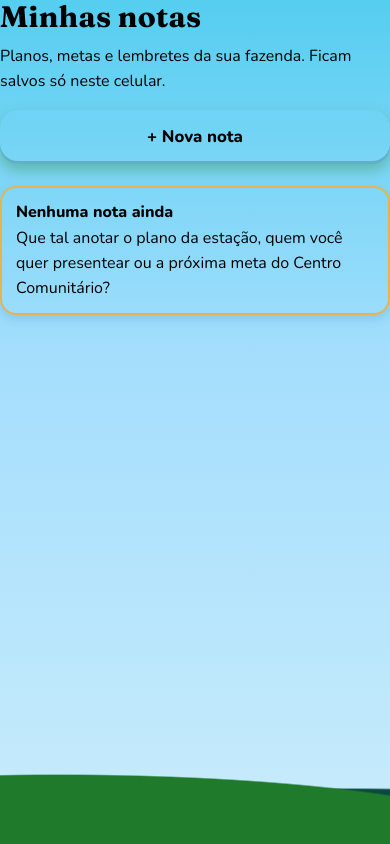
Scenario: Minhas notas (interface) › não salva nota deixada em branco
Step 1. Click the button "+ Nova nota" → [195, 137], box [0,110,389,164]
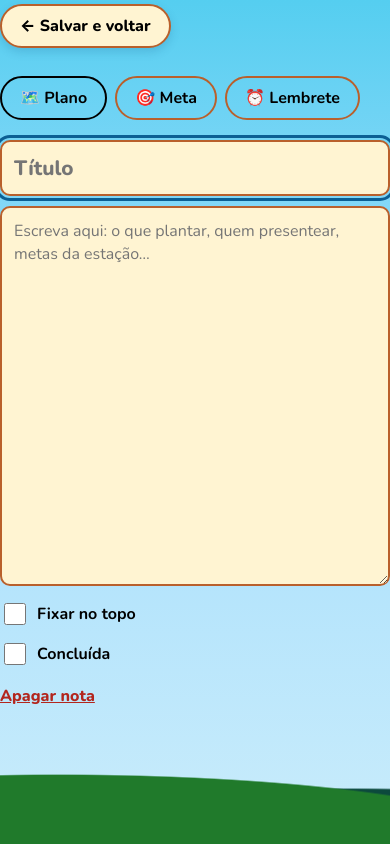
Step 2. Click the button "← Salvar e voltar" → [85, 26], box [0,4,170,48]
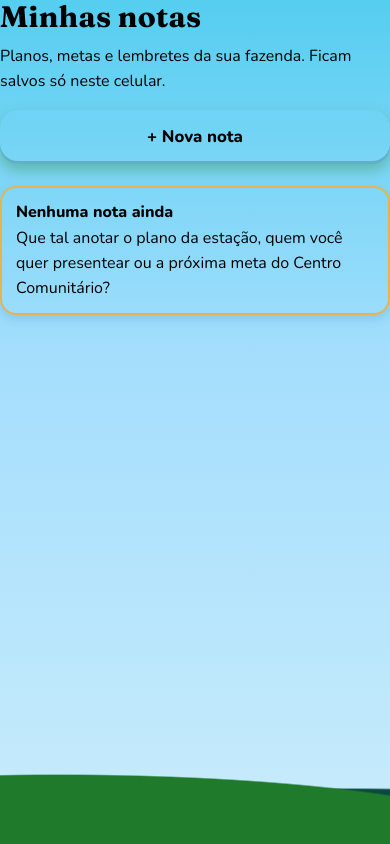
Expected: the text "Nenhuma nota ainda" is shown, [16,201,173,223]
